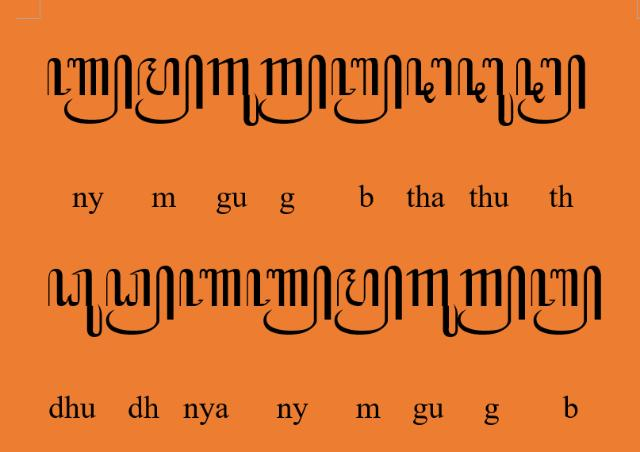-b: (530, 264, 602, 336), (331, 54, 403, 124)
-dh: (105, 264, 175, 336)
-g: (457, 263, 527, 337), (257, 54, 327, 124)
-m: (334, 264, 404, 336), (134, 54, 204, 124)
-ny: (245, 266, 332, 336), (48, 54, 134, 124)
-th: (516, 54, 586, 124)
dhu: (47, 268, 103, 338)
gu: (206, 58, 260, 128), (406, 267, 458, 339)
ny1: (178, 268, 242, 308)
th: (406, 58, 452, 104)
thu: (458, 56, 514, 128)
